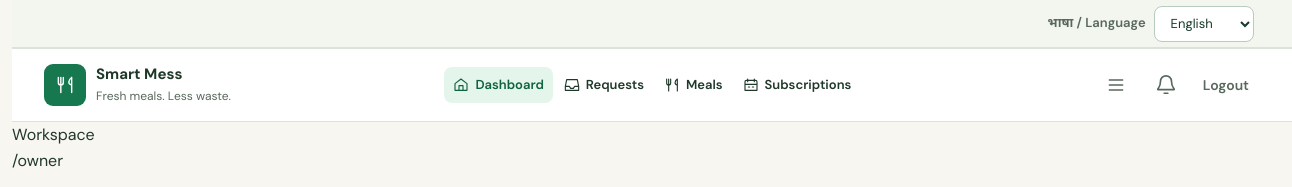
it: keeps logout behavior and removes all existing session keys
Click the button "Logout": click(1226, 85) [1192,67,1260,103]
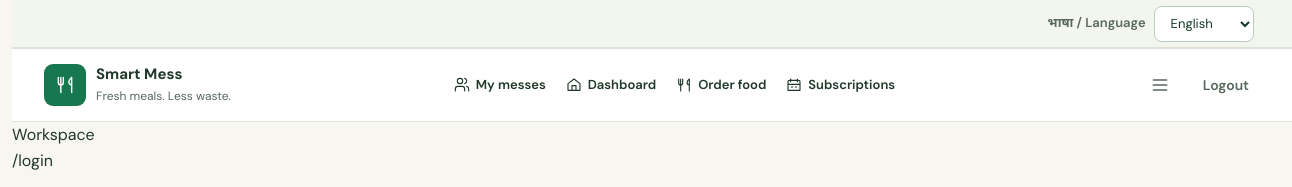
Check: the text with test id "location" reads "/login", box [12,150,53,171]
